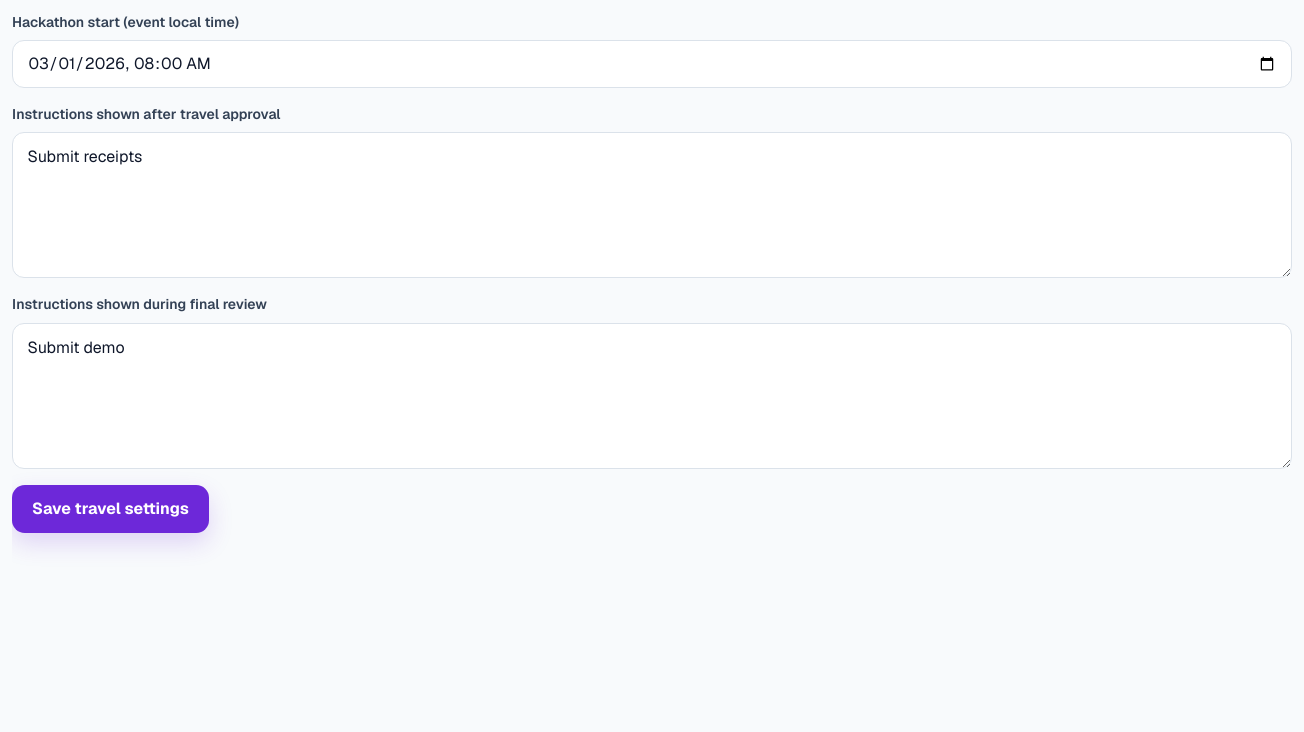
Test: TravelSettingsForm › shows an error message when saving fails
Click the button "Save travel settings" at (110, 509), box x1=12 y1=485 x2=209 y2=533
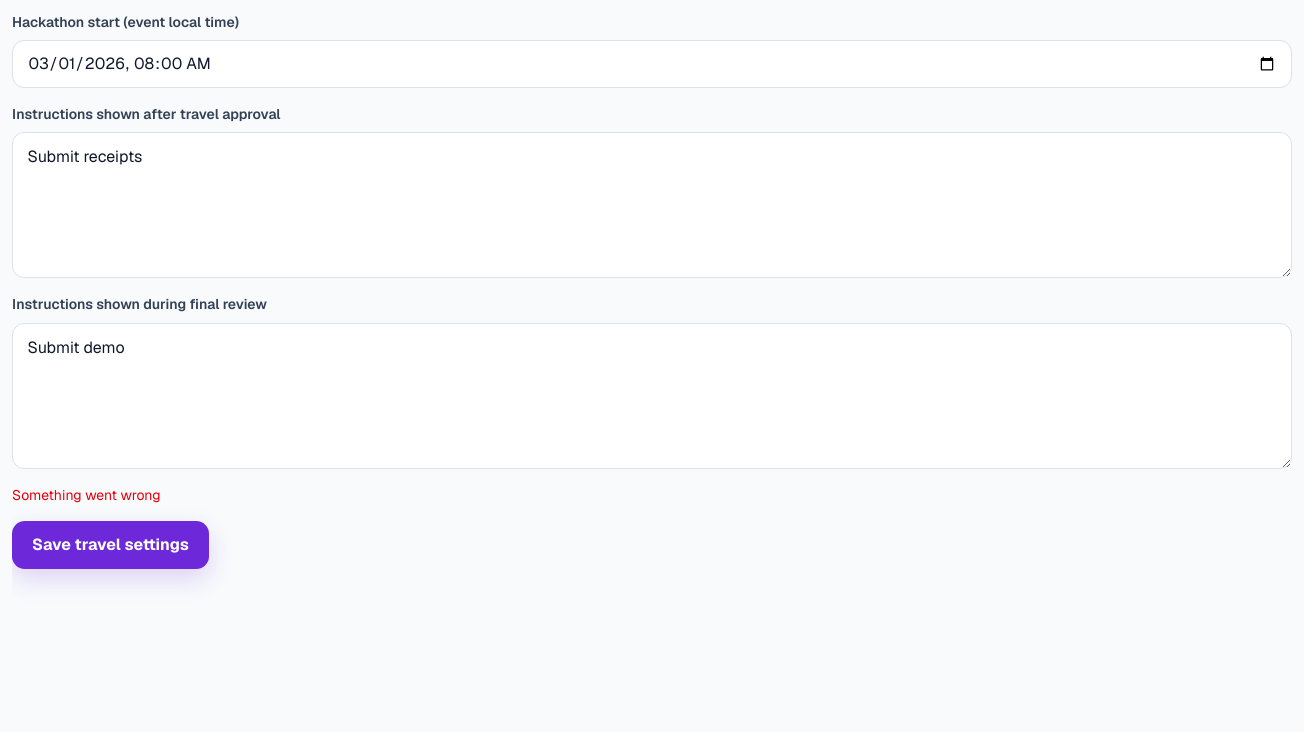
Result: the message reads "Something went wrong" at x1=12 y1=486 x2=161 y2=504
